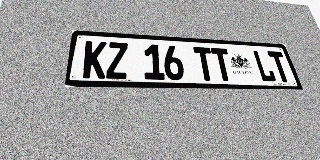1: (143, 44, 165, 80)
6: (162, 45, 185, 80)
K: (82, 41, 107, 79)
L: (252, 50, 277, 82)
T: (193, 47, 217, 81), (267, 51, 293, 82), (210, 48, 234, 81)
Z: (106, 42, 128, 79)
